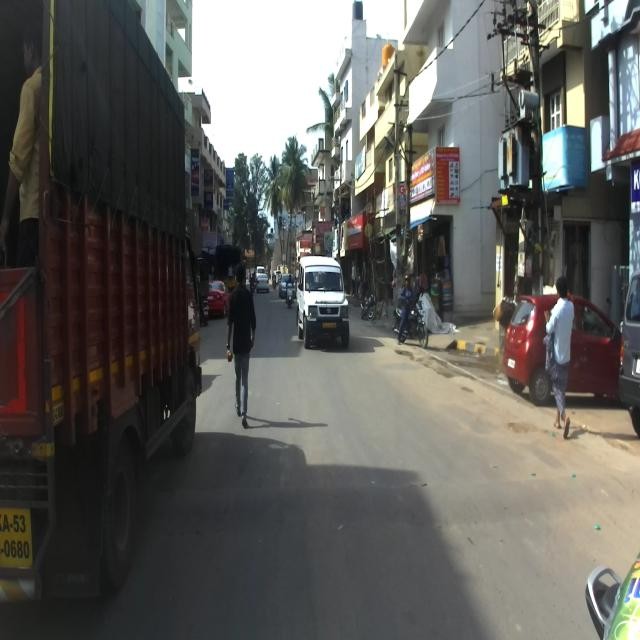car ahead at: (295, 256, 352, 354)
person ahead at: (223, 257, 260, 433), (542, 276, 580, 442)
truck ahead at: (0, 0, 203, 613)
